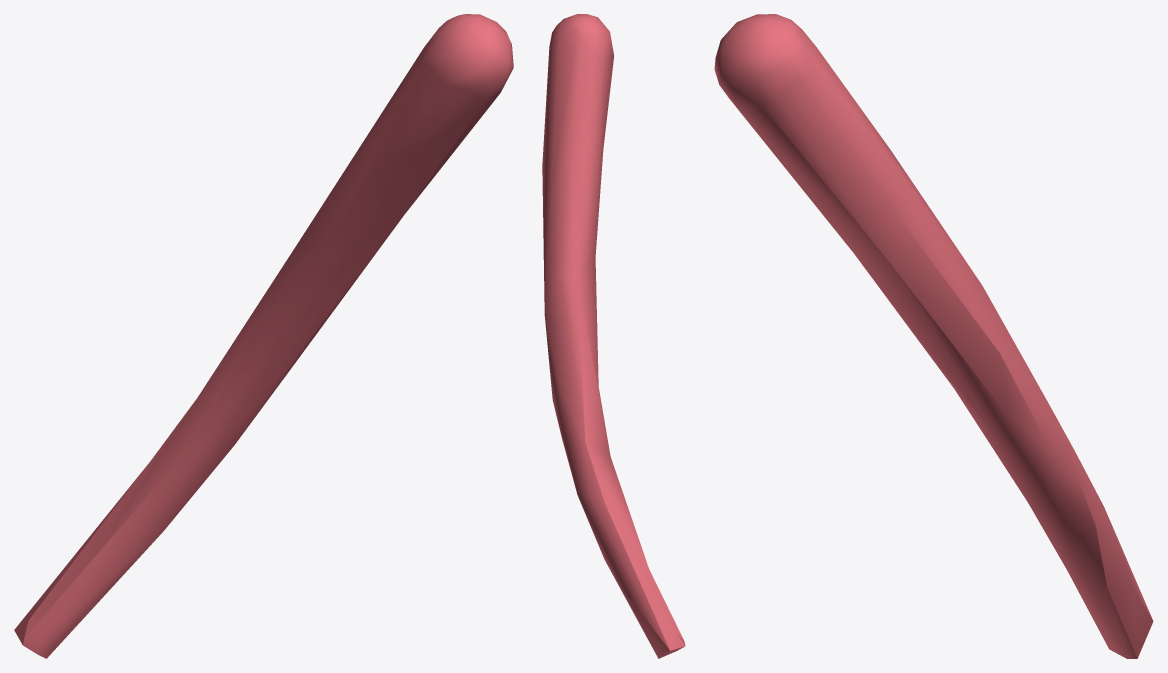
The model's file is fma9428_fj3046.glb.
3 views of the same model, side by side, from view 1: azimuth 30°, elevation 25°; view 2: azimuth 150°, elevation 25°; view 3: azimuth 270°, elevation 25° (orthographic). The views are drawn at different scales.
Visible parts, largest first — view 1: FMA9428_FJ3046; view 2: FMA9428_FJ3046; view 3: FMA9428_FJ3046.
Part boxes in pixels (x1,y1,x2,y2): FMA9428_FJ3046: (14,14,513,658); FMA9428_FJ3046: (542,14,685,658); FMA9428_FJ3046: (714,14,1153,658).
Size of the model in its own units: 0.0125 by 0.0248 by 0.0125.
